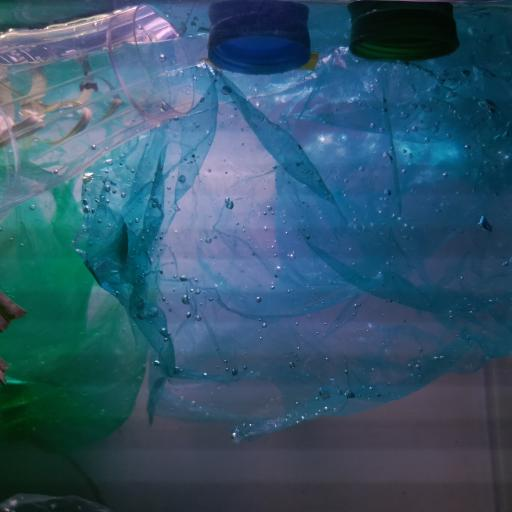bottle_cap: (205, 15, 314, 75), (351, 10, 462, 62)
plastic_bag: (78, 2, 504, 444), (0, 158, 159, 452), (1, 494, 113, 512)
plastic_cup: (0, 6, 195, 218)
